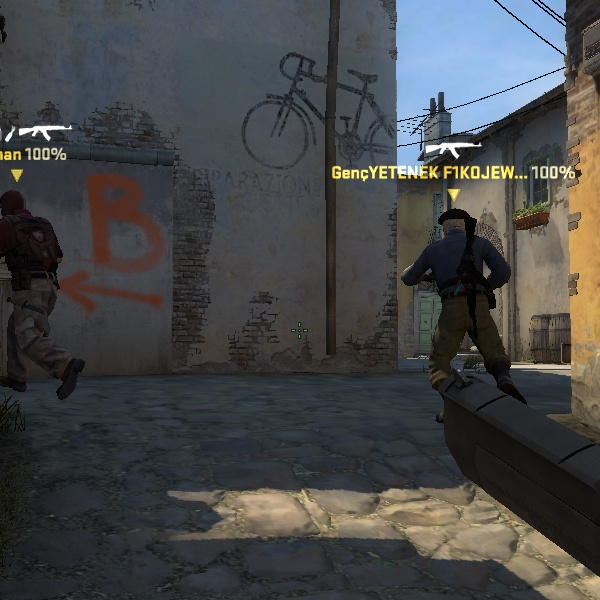t_body: (391, 200, 530, 412), (1, 184, 92, 409)
t_head: (429, 202, 481, 247), (0, 184, 37, 237)
